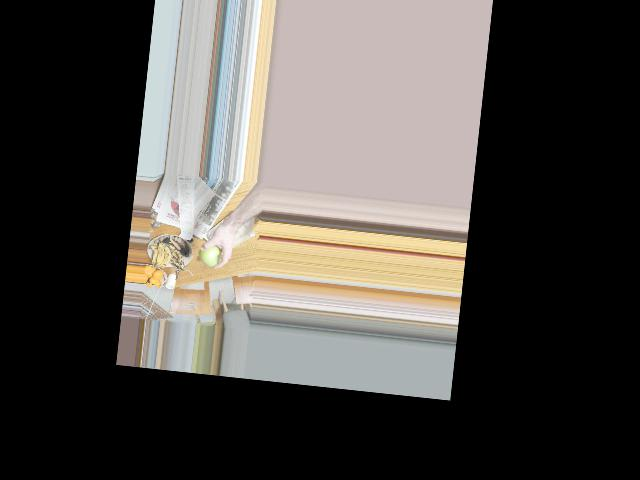apple: (199, 242, 222, 268)
